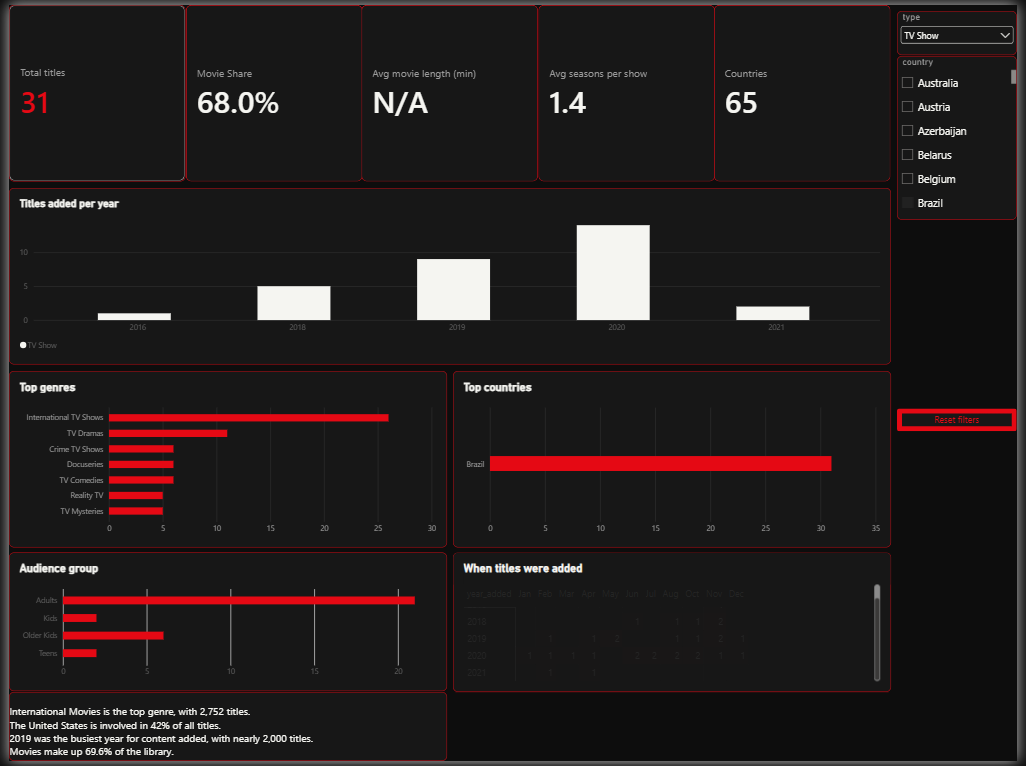

The page's visual inventory and layout, read from the dashboard file:
{"tool":"powerbi","page":{"name":"Page 1","canvas":[1600,1200],"ordinal":0},"visuals":[{"type":"cardVisual","fields":{"Data":["netflix_cleaned.Total Titles Label"]},"box":[0,0,280,280],"z":0},{"type":"cardVisual","fields":{"Data":["netflix_cleaned.Movie Share"]},"box":[280,0,280,280],"z":1000},{"type":"cardVisual","fields":{"Data":["netflix_cleaned.Avg Movie Length"]},"box":[560,0,280,280],"z":2000},{"type":"cardVisual","fields":{"Data":["netflix_cleaned.Avg Seasons"]},"box":[840,0,280,280],"z":3000},{"type":"cardVisual","fields":{"Data":["netflix_cleaned.Countries"]},"box":[1120,0,280,280],"z":4000},{"type":"columnChart","title":" Titles added per year","fields":{"Category":["netflix_cleaned.year_added"],"Y":["netflix_cleaned.Total Titles"],"Series":["netflix_cleaned.type"]},"box":[0,290,1400,280],"z":5000},{"type":"clusteredBarChart","title":"Top genres","fields":{"Category":["netflix_genres.genre"],"Y":["CountNonNull(netflix_genres.show_id)"]},"box":[0,580,695,280],"z":6000},{"type":"clusteredBarChart","title":"Top countries","fields":{"Category":["netflix_countries.country"],"Y":["netflix_countries.Titles by Country"]},"box":[705,580,695,280],"z":7000},{"type":"slicer","fields":{"Values":["netflix_cleaned.type"]},"box":[1410,10,190,70],"z":8000},{"type":"slicer","fields":{"Values":["netflix_countries.country"]},"box":[1410,80,190,260],"z":9000},{"type":"actionButton","box":[1410,640,190,36],"z":9001},{"type":"clusteredBarChart","title":"Audience group","fields":{"Category":["netflix_cleaned.audience_group"],"Y":["netflix_cleaned.Total Titles"]},"box":[0,870,695,220],"z":9002},{"type":"pivotTable","title":"When titles were added","fields":{"Rows":["netflix_cleaned.year_added"],"Columns":["netflix_cleaned.month_name"],"Values":["netflix_cleaned.Total Titles"]},"box":[705,870,695,220],"z":9003},{"type":"textbox","box":[0,1090,1400,110],"z":9004}]}

Visuals, with their boxes on the page's 1600x1200 design canvas (x1, y1, x2, y2). These are canvas units, not pixel positions in the 1026x766 screenshot, which may show the page scaled, cropped or inside an application window:
cardVisual - netflix_cleaned.Total Titles Label: bbox=[0, 0, 280, 280]
cardVisual - netflix_cleaned.Movie Share: bbox=[280, 0, 560, 280]
cardVisual - netflix_cleaned.Avg Movie Length: bbox=[560, 0, 840, 280]
cardVisual - netflix_cleaned.Avg Seasons: bbox=[840, 0, 1120, 280]
cardVisual - netflix_cleaned.Countries: bbox=[1120, 0, 1400, 280]
" Titles added per year" columnChart: bbox=[0, 290, 1400, 570]
"Top genres" clusteredBarChart: bbox=[0, 580, 695, 860]
"Top countries" clusteredBarChart: bbox=[705, 580, 1400, 860]
slicer - netflix_cleaned.type: bbox=[1410, 10, 1600, 80]
slicer - netflix_countries.country: bbox=[1410, 80, 1600, 340]
actionButton: bbox=[1410, 640, 1600, 676]
"Audience group" clusteredBarChart: bbox=[0, 870, 695, 1090]
"When titles were added" pivotTable: bbox=[705, 870, 1400, 1090]
textbox: bbox=[0, 1090, 1400, 1200]
